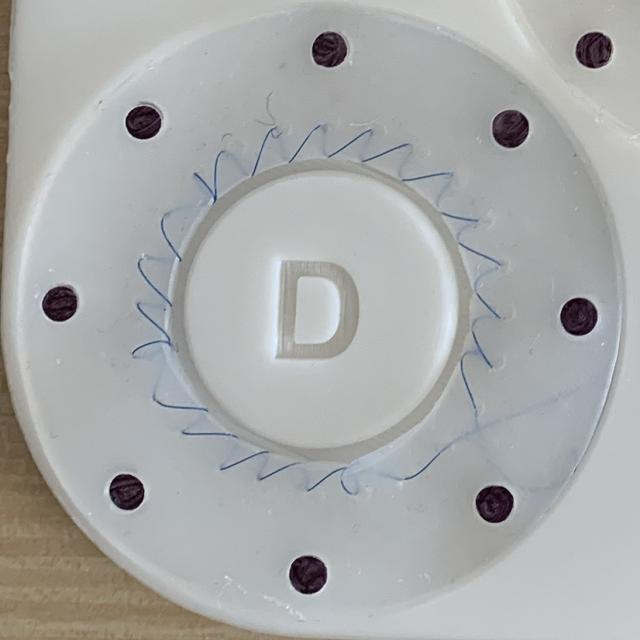suture: (136, 258, 172, 307), (135, 301, 170, 342), (328, 129, 372, 157), (288, 125, 320, 163), (252, 128, 275, 177), (405, 451, 441, 481), (219, 451, 271, 471), (307, 467, 348, 492), (458, 242, 500, 266), (160, 218, 182, 263), (258, 462, 301, 483), (152, 395, 208, 411), (362, 144, 410, 161), (472, 331, 493, 368), (461, 358, 476, 409), (131, 340, 171, 356), (194, 173, 215, 203), (476, 293, 501, 318), (214, 151, 224, 203), (181, 431, 239, 439), (401, 172, 452, 181), (442, 212, 479, 222), (340, 478, 353, 495)
